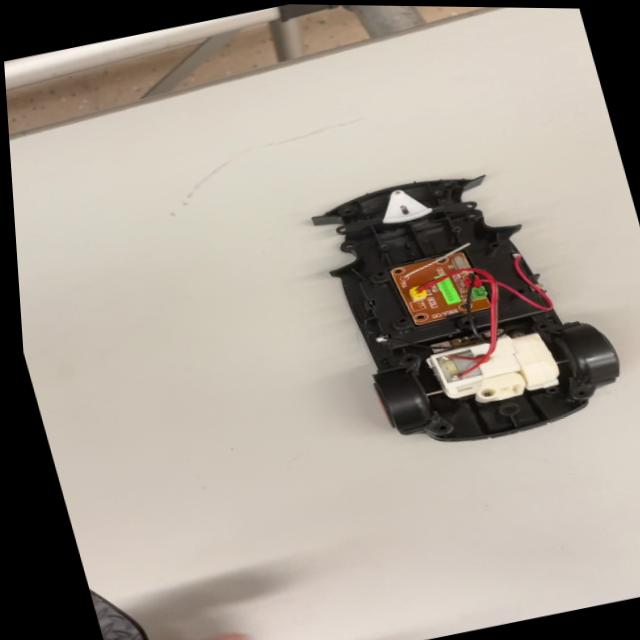Chassis: (308, 147, 624, 462)
